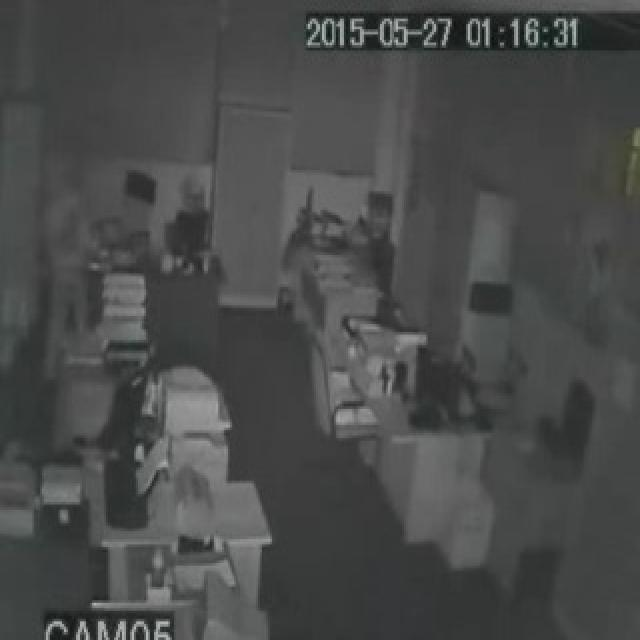thief: (48, 143, 102, 295)
